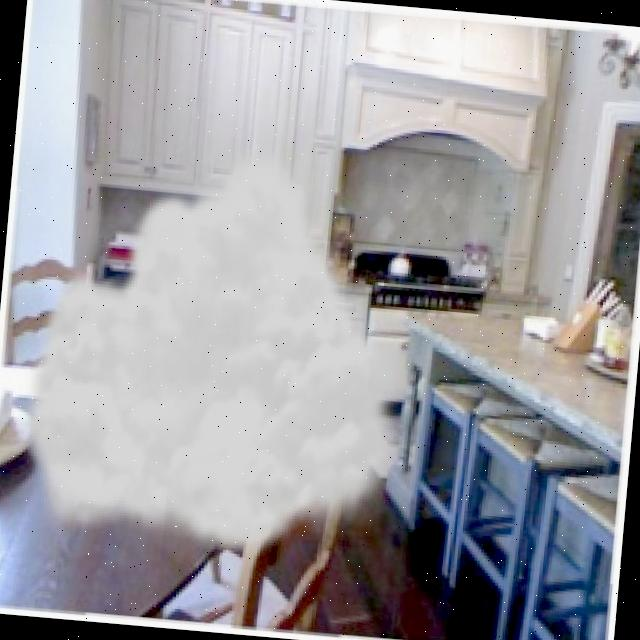smoke: (6, 121, 435, 571)
